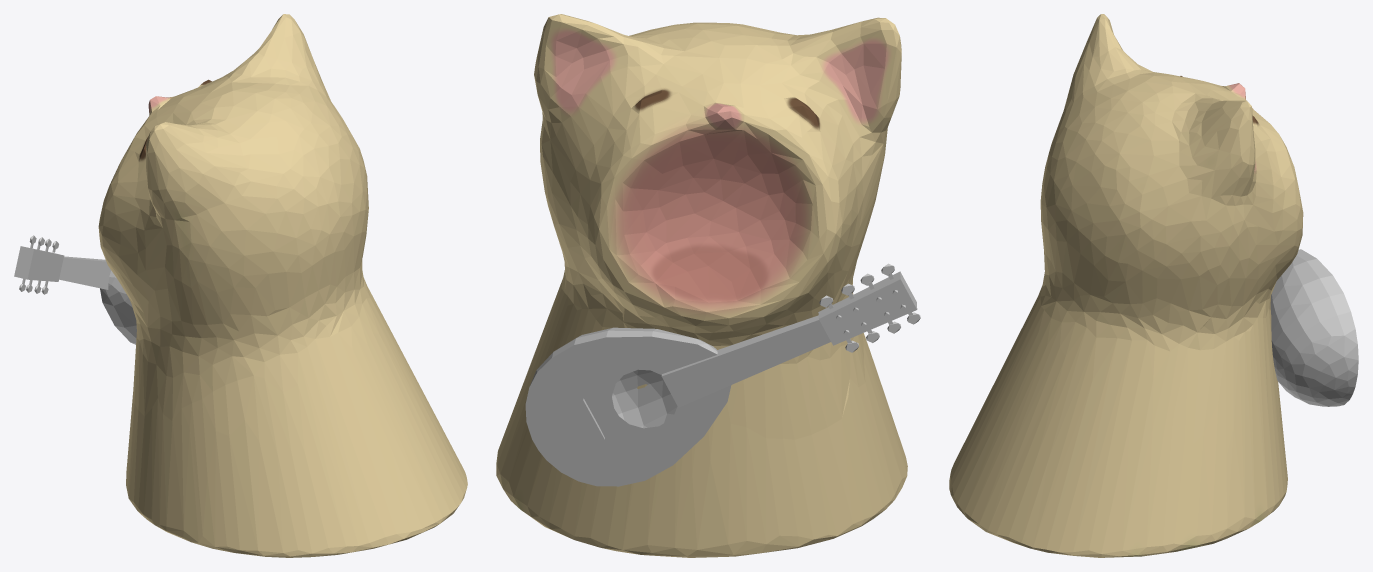
The model's file is gatto bardo.fbx.
The picture shows the model from 3 angles, left to right: view 1: azimuth 30°, elevation 25°; view 2: azimuth 150°, elevation 25°; view 3: azimuth 270°, elevation 25°; orthographic projection. The views are drawn at different scales.
Parts seen in each view (by area): view 1: Sphere.001, Cube.003; view 2: Sphere.001, Cube.003; view 3: Sphere.001, Cube.003.
Part boxes in pixels (left/top/right/bottom): Sphere.001: left=98, top=14, right=467, bottom=557; Cube.003: left=14, top=235, right=136, bottom=344; Sphere.001: left=496, top=14, right=907, bottom=557; Cube.003: left=525, top=263, right=920, bottom=486; Sphere.001: left=949, top=14, right=1303, bottom=557; Cube.003: left=1270, top=249, right=1358, bottom=406.
Size of the model in its own units: 312 by 326 by 293.
